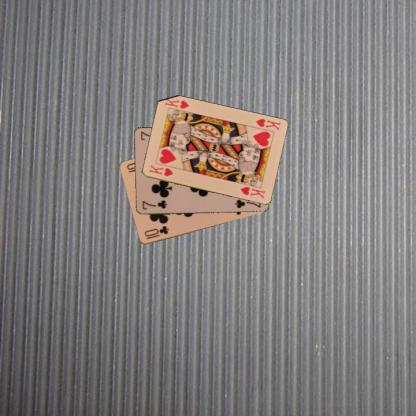10c: (141, 223, 170, 240)
7c: (140, 197, 168, 211)
Kh: (252, 116, 282, 132), (147, 162, 174, 177)
